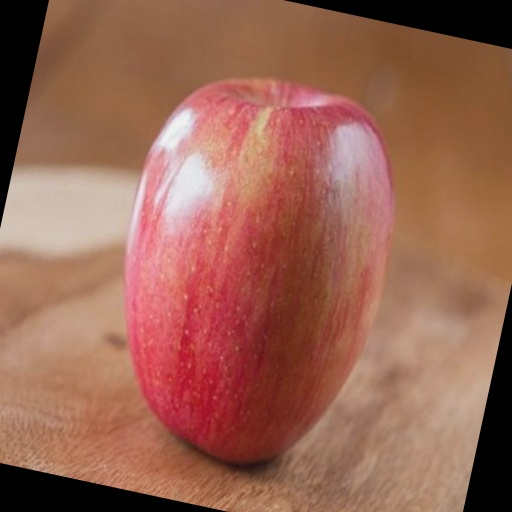fruit: (254, 147, 476, 512)
